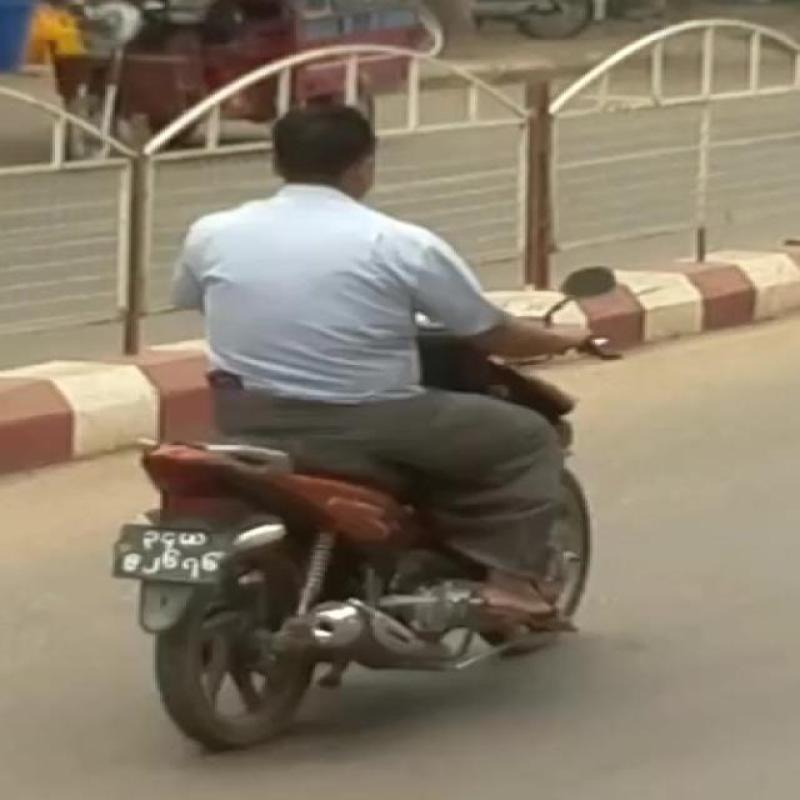nohelmet: (252, 68, 418, 217)
